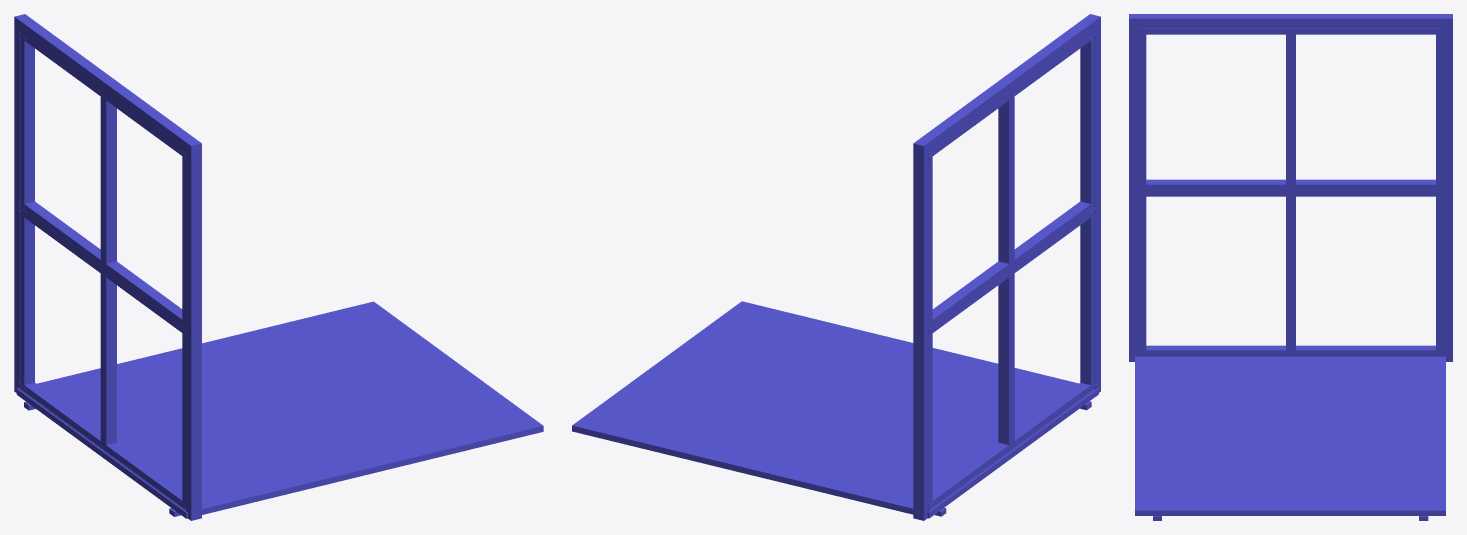
Rendered from window.obj.
The picture shows the model from 3 angles, left to right: view 1: azimuth 30°, elevation 25°; view 2: azimuth 150°, elevation 25°; view 3: azimuth 270°, elevation 25°; orthographic projection. The views are drawn at different scales.
Visible parts, largest first — view 1: door; view 2: door; view 3: door.
Part boxes in pixels (box(x1,y1,x2,y2)): door: box(14, 14, 543, 520); door: box(572, 14, 1100, 520); door: box(1129, 14, 1452, 520).
Bounding box in the file's own units: 82.22 × 82.56 × 69.75.
